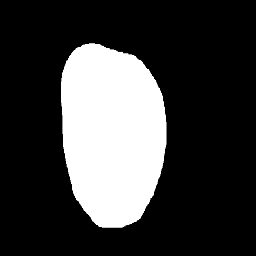mass: (56, 48, 166, 235)
